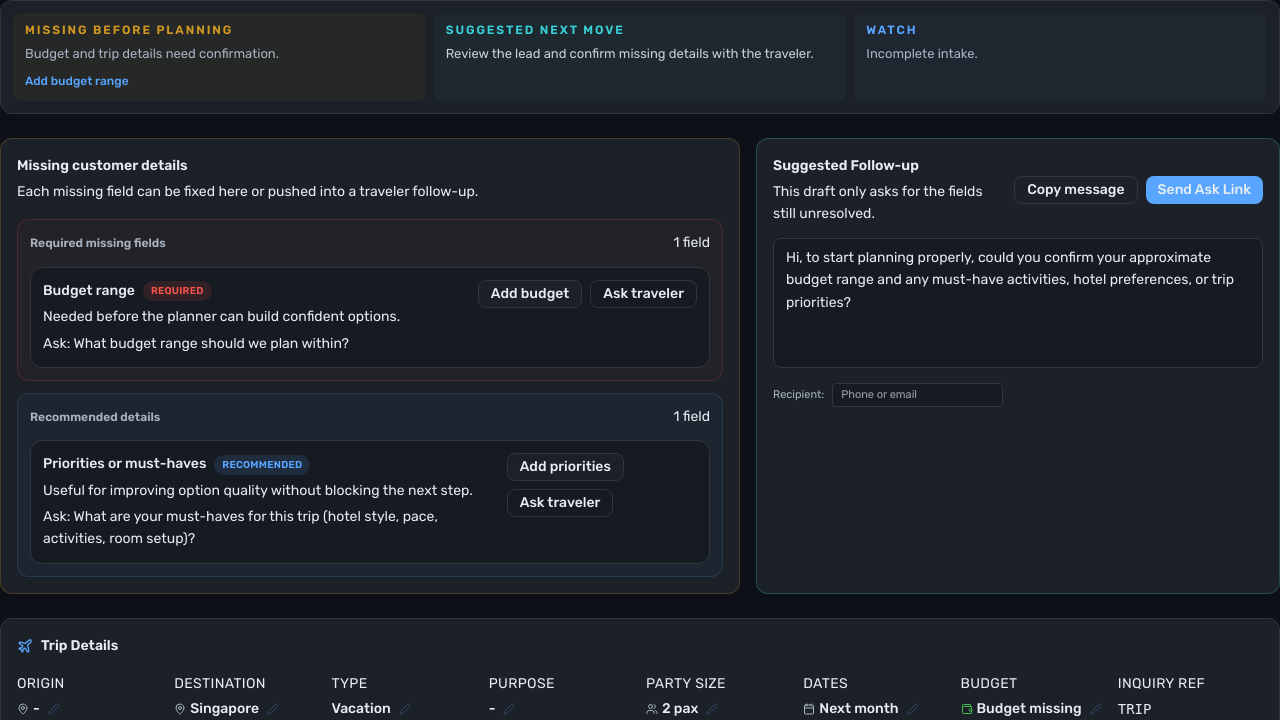
Test: IntakePanel › shows a saved-next-step hint after saving a planning field
Click the button "Add budget range" at (77, 82), box [25,72,129,91]
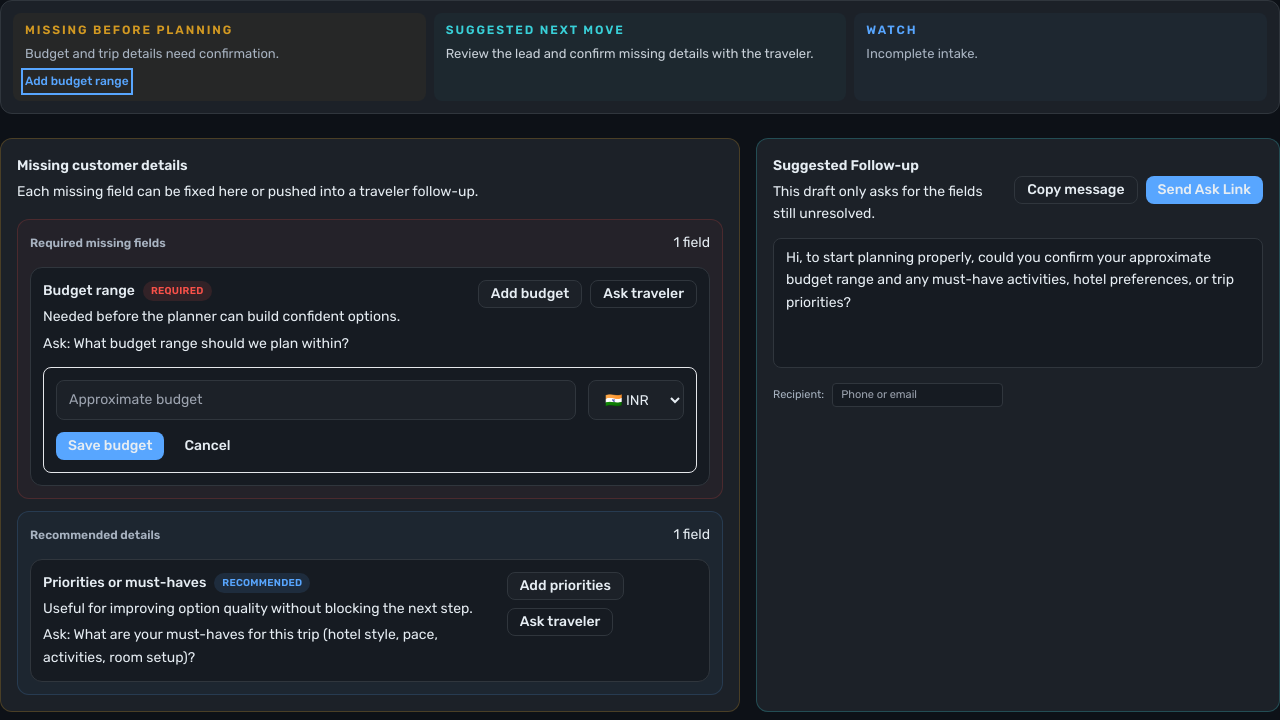
Type "5000" into the number field with placeholder "Approximate budget" at (316, 400), box [56,380,576,420]
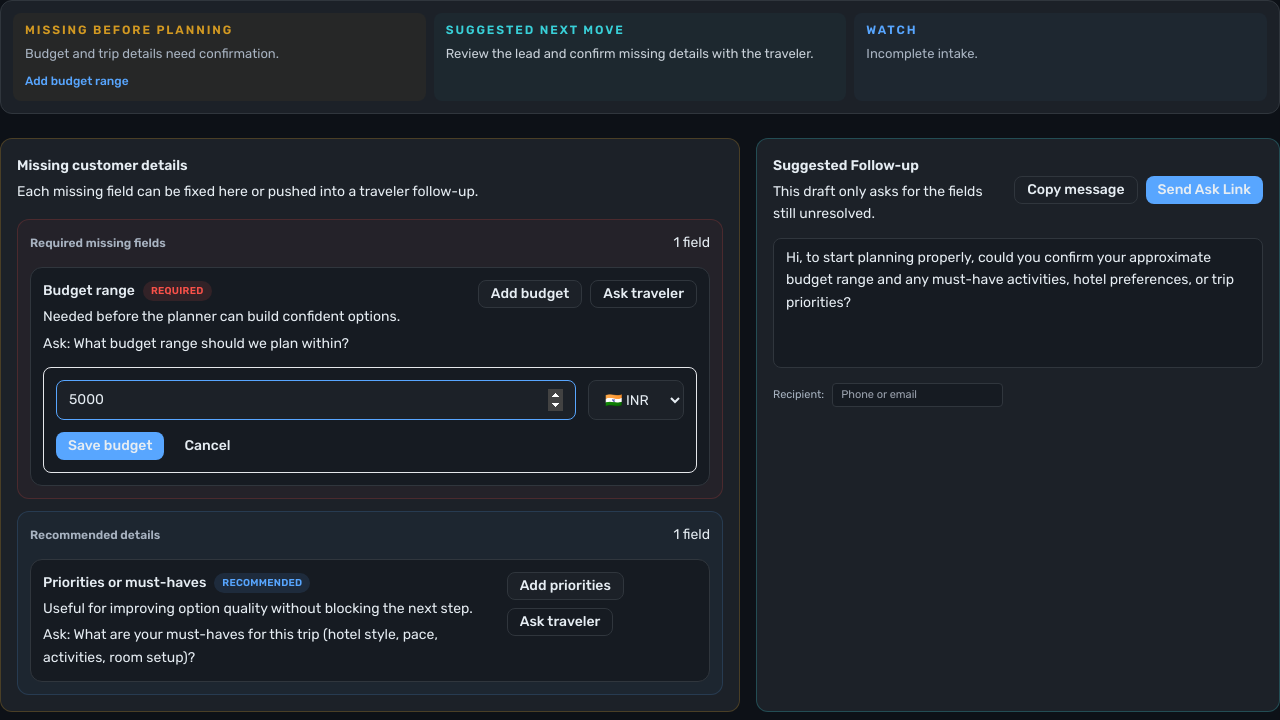
Click the button "Save budget" at (110, 446), box [56,432,164,460]
(page scrolled)
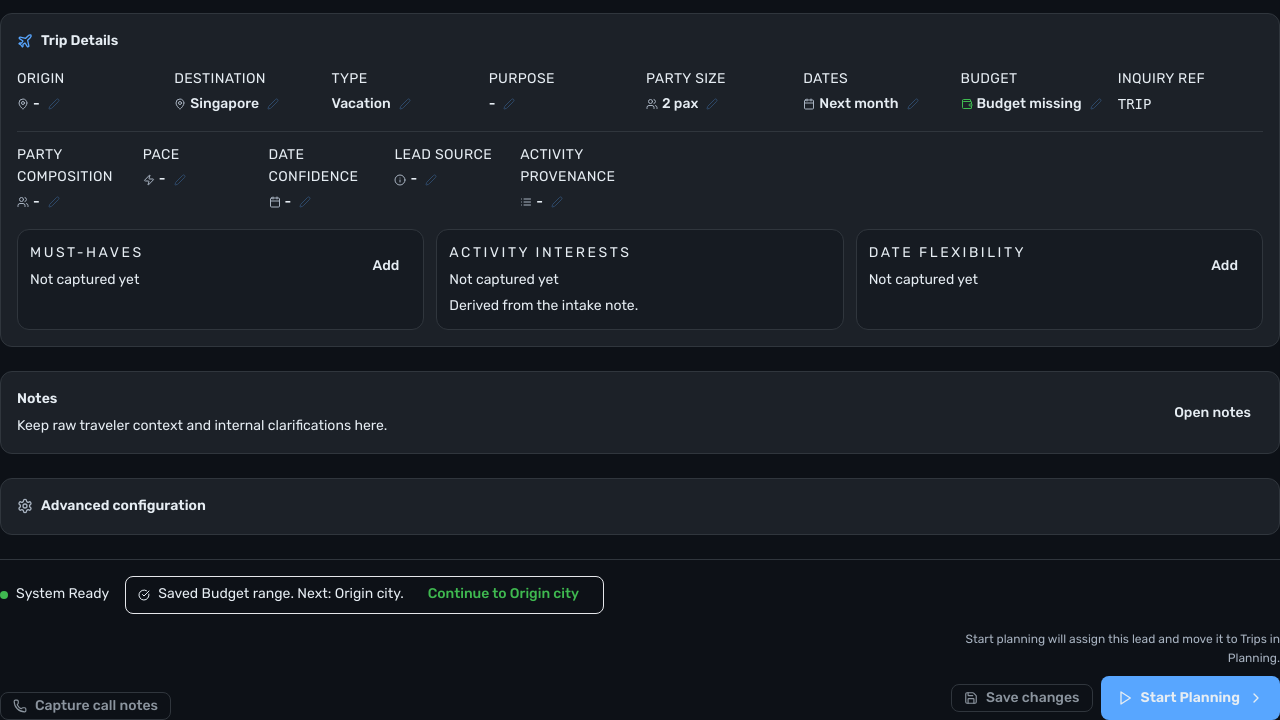
Result: the text "Saved Budget range. Next: Origin city." is shown at [158,583,404,606]
Result: the button "Continue to Origin city" is shown at [416,583,591,607]
